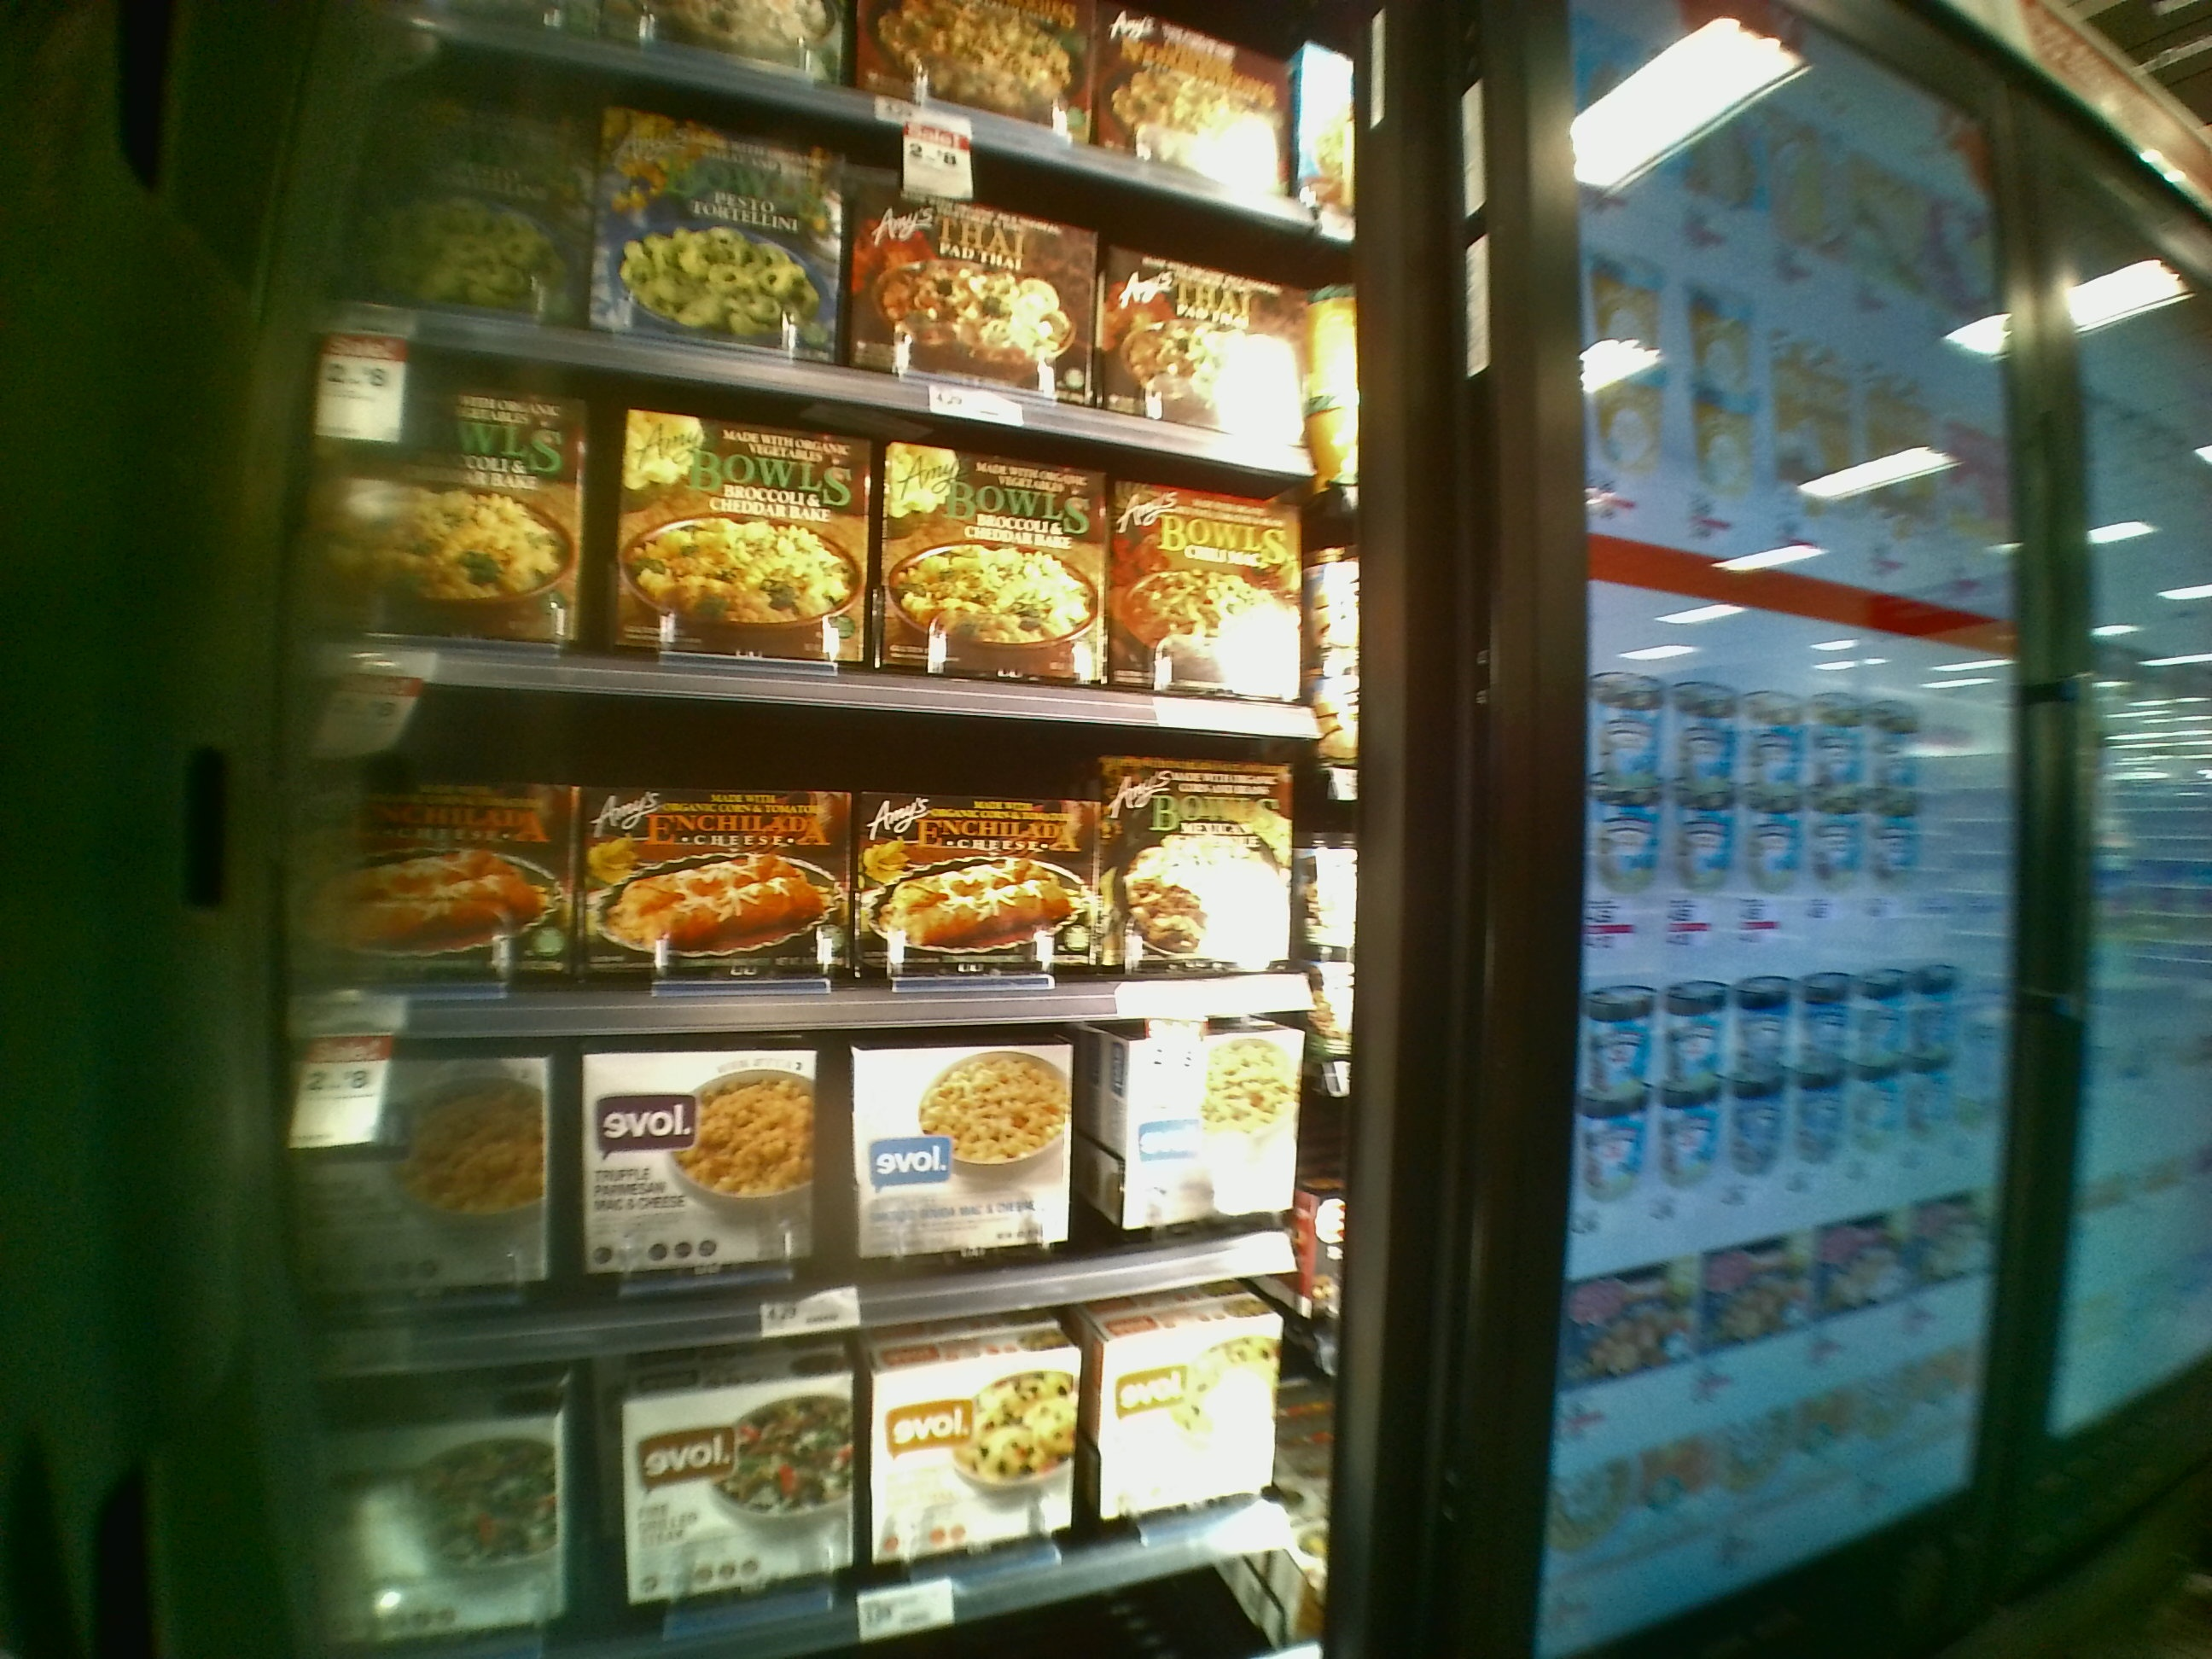shelf: (308, 709, 1345, 1032), (294, 420, 1334, 732), (303, 1039, 1324, 1349), (348, 1330, 1325, 1631)
